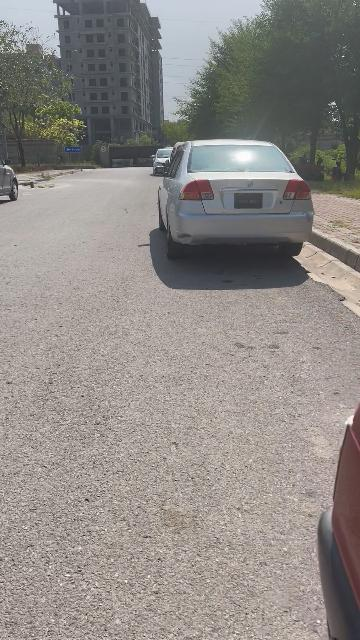plate: (232, 191, 264, 207)
